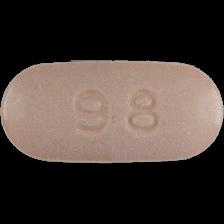52125-190: (0, 0, 224, 224)
